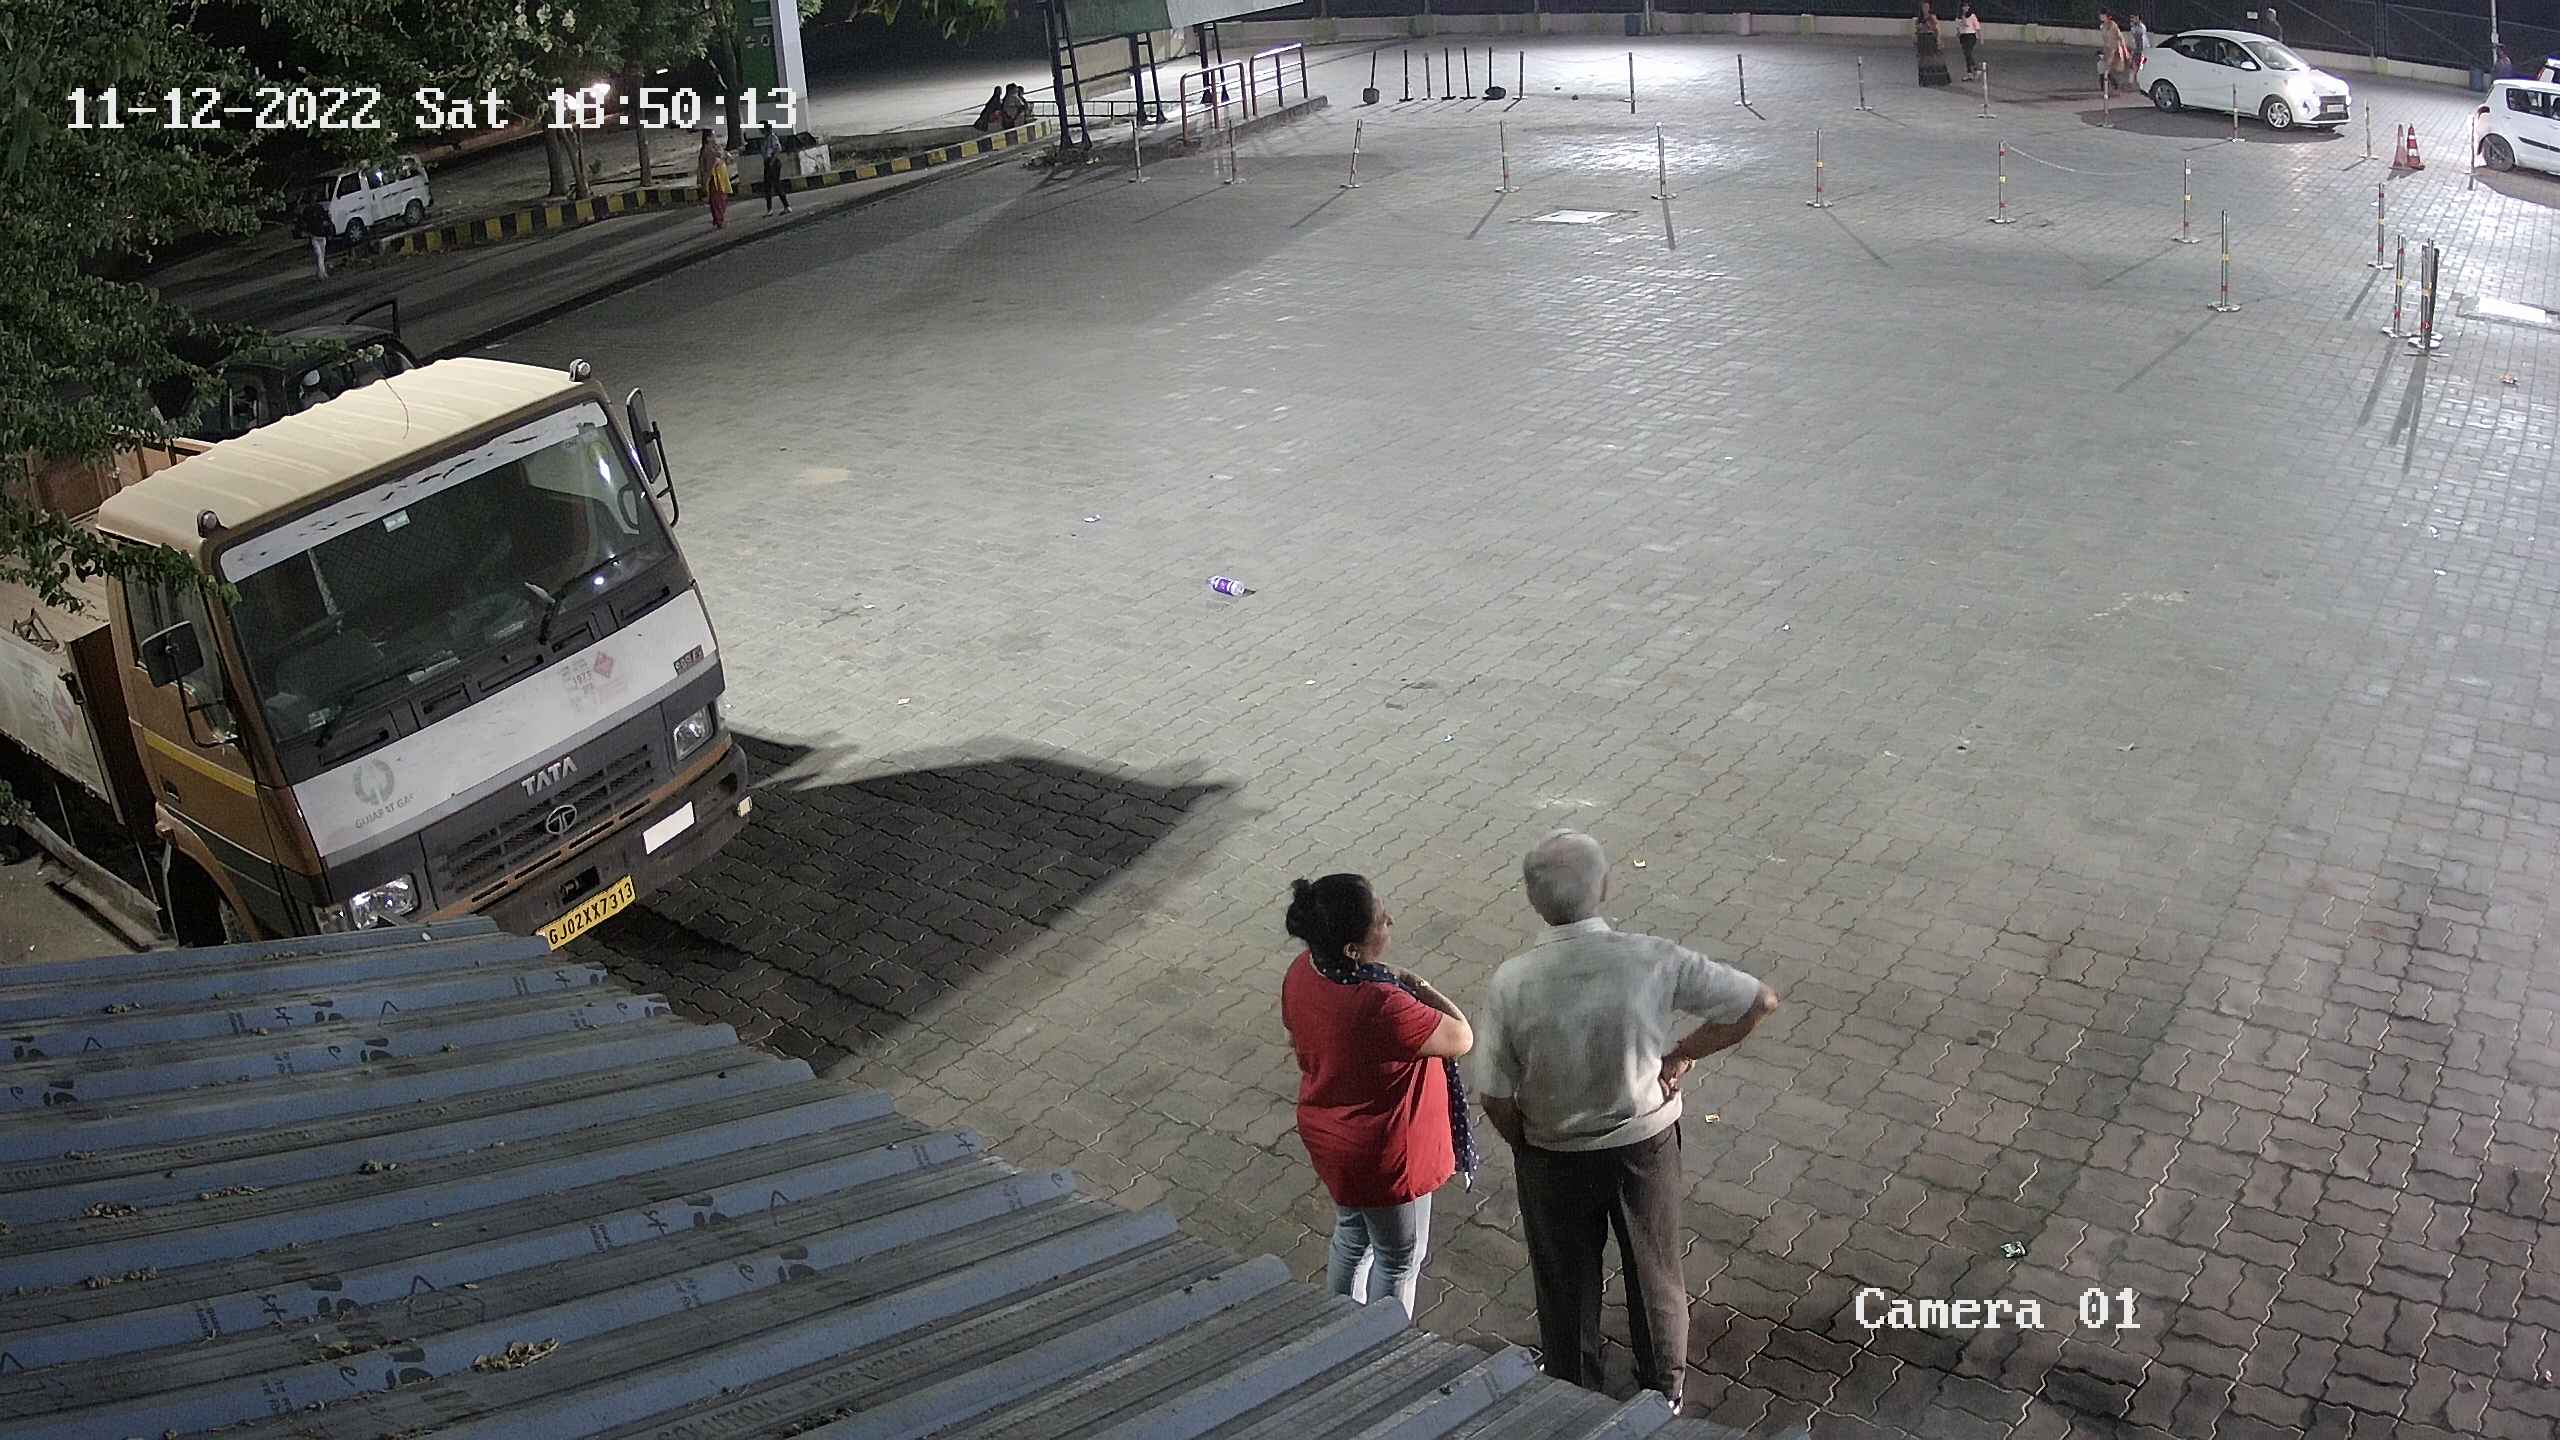Car: (132, 287, 433, 447), (2120, 16, 2361, 134), (281, 135, 441, 251), (2467, 46, 2555, 183)
HMV: (2, 313, 775, 997)
